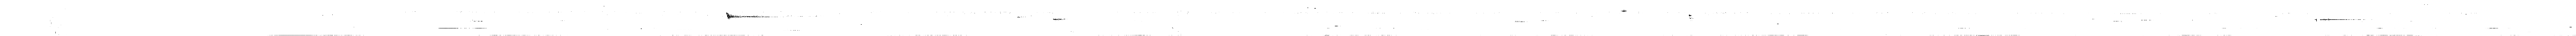meteor: (726, 11, 770, 20)
